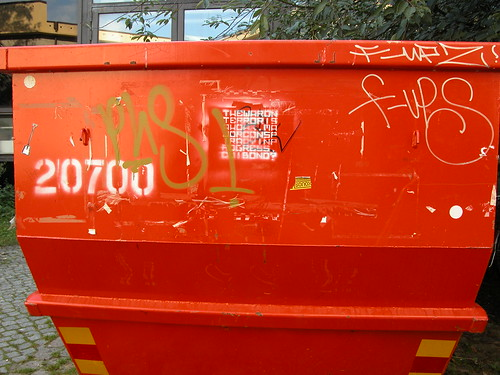dumpster: (2, 43, 500, 375)
graffiti: (84, 91, 267, 209), (351, 41, 494, 170)
